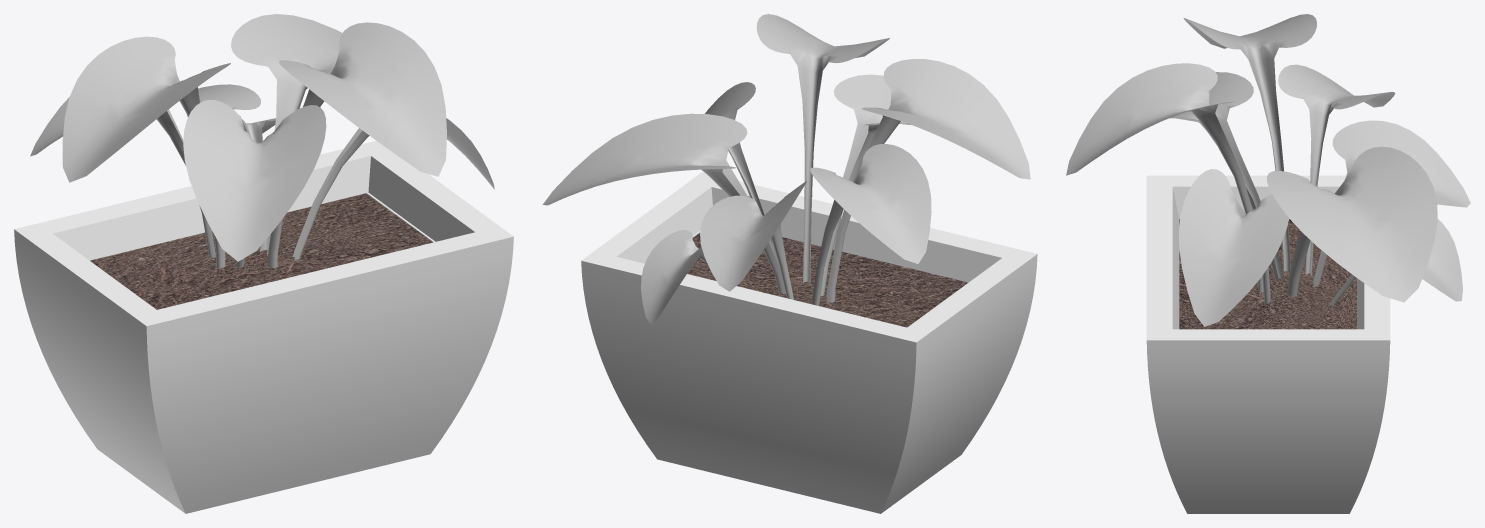
File: Plant 2.fbx
3 views of the same model, side by side, from view 1: azimuth 30°, elevation 25°; view 2: azimuth 150°, elevation 25°; view 3: azimuth 270°, elevation 25° (orthographic). The views are drawn at different scales.
Visible parts, largest first — view 1: Plant 2; view 2: Plant 2; view 3: Plant 2.
Part boxes in pixels (<box>): Plant 2: <box>14,14,513,513</box>; Plant 2: <box>542,14,1037,513</box>; Plant 2: <box>1066,14,1470,513</box>.
Size of the model in its own units: 25.77 by 24.13 by 22.5.
